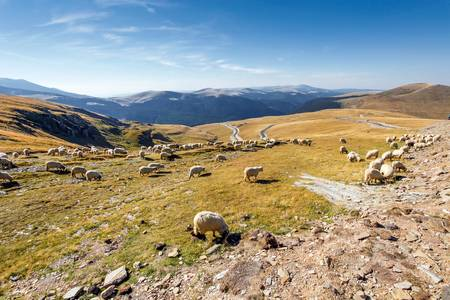sheep: (190, 210, 233, 241), (242, 164, 267, 183), (363, 166, 382, 187), (187, 163, 207, 181), (43, 161, 67, 173), (390, 160, 407, 175), (84, 170, 103, 182), (138, 164, 158, 175), (71, 165, 86, 179), (112, 147, 129, 158), (364, 148, 379, 160), (45, 147, 59, 157), (413, 141, 425, 152), (214, 154, 228, 163), (337, 144, 348, 155), (138, 149, 146, 158), (339, 137, 348, 145)
